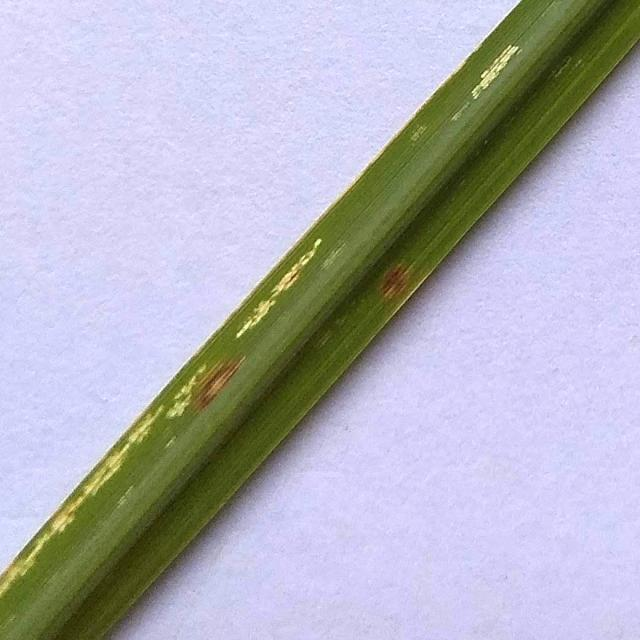Blast: (198, 366, 240, 400), (374, 260, 409, 300)
